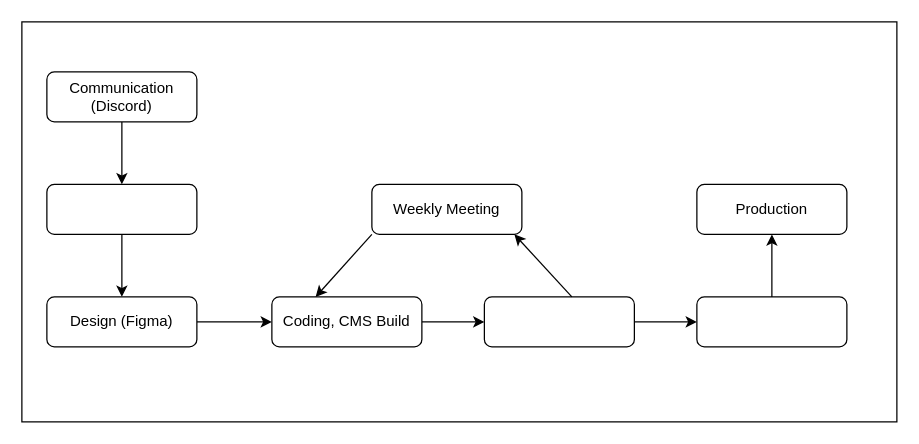
The diagram is 919 pixels wide and 444 high, and some of its shapes have lost their labels. The shapes that lost their labels are listed below. From the top down, each one's box as (x1, y1, x2, y2) in pixels, then its label:
(46, 183, 197, 234): Planning (Trello)
(483, 296, 634, 347): Version Control (Github)
(696, 296, 847, 347): Staging (Siteground)
